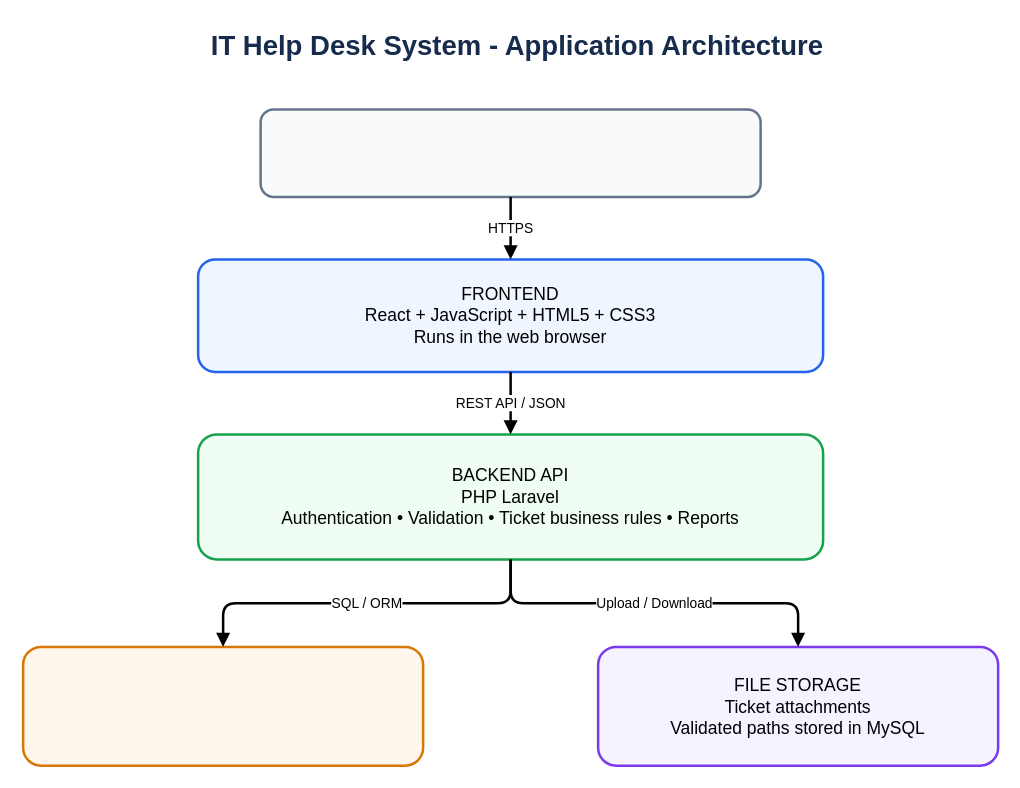
This 1020x788 diagram has some shape labels left out. Each missing label, with the box of its shape:
DATABASE MySQL 9.7 Managed with DBeaver: (21, 645, 424, 766)
USERS Employees • IT Agents • Administrators: (259, 108, 761, 198)
